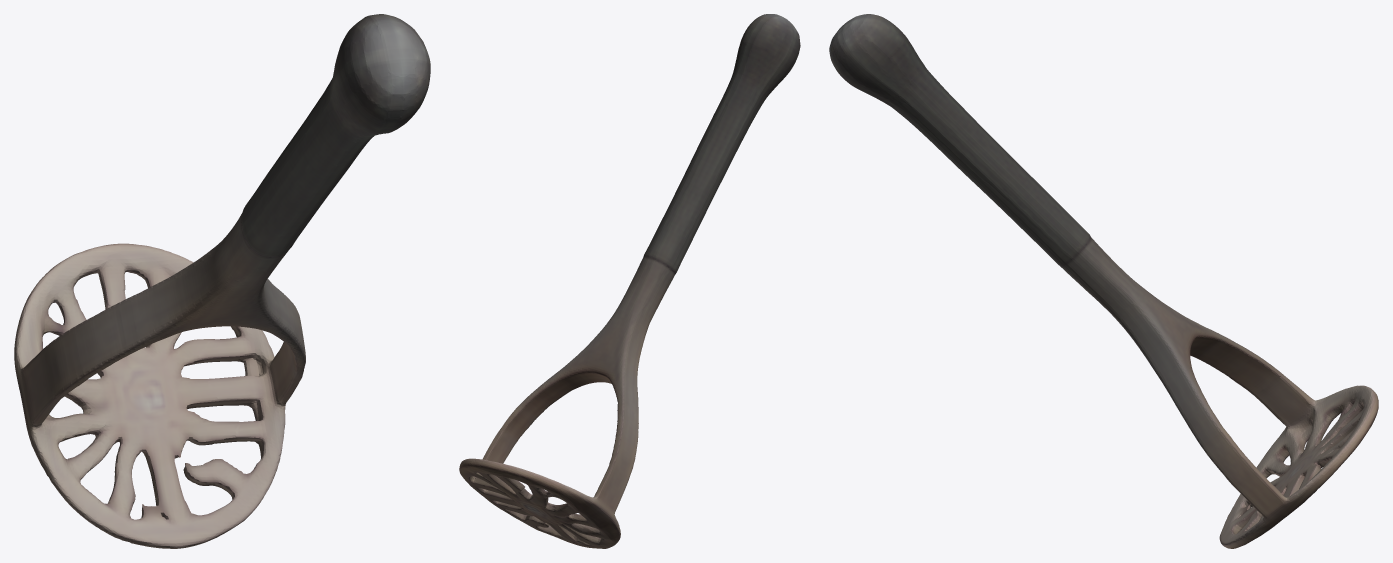
The model's file is frame_0066_source_000066_object.glb.
The picture shows the model from 3 angles, left to right: view 1: azimuth 30°, elevation 25°; view 2: azimuth 150°, elevation 25°; view 3: azimuth 270°, elevation 25°; orthographic projection. The views are drawn at different scales.
Parts seen in each view (by area): view 1: world; view 2: world; view 3: world.
Boxes of the visible parts, x1,y1,x2,y2 form: world: (14, 14, 430, 548); world: (459, 14, 800, 548); world: (829, 14, 1378, 548).
Bounding box in the file's own units: 0.0742 × 0.2114 × 0.2115.
